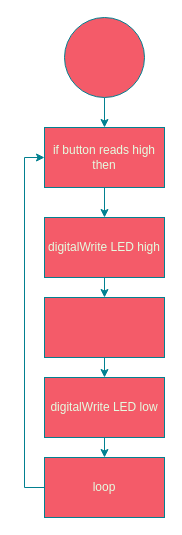
The diagram is 182 pixels wide and 535 high, and some of its shapes have lost their labels. The box of each missing label's shape, as (x1, y1, x2, y2) in pixels:
start: (64, 16, 144, 98)
wait 500 ms: (44, 296, 164, 358)
